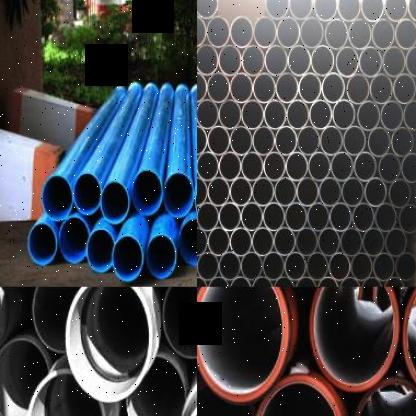pipe: (197, 287, 290, 403), (65, 287, 153, 402), (310, 287, 398, 392), (252, 374, 345, 416), (26, 368, 106, 416), (0, 337, 48, 416), (126, 356, 186, 416), (32, 286, 80, 354), (350, 377, 415, 416), (163, 287, 197, 358), (402, 286, 416, 400), (111, 236, 143, 282), (42, 175, 73, 221), (147, 233, 177, 280), (133, 170, 163, 216), (164, 172, 194, 218), (59, 216, 89, 262), (100, 181, 130, 224), (86, 228, 114, 272), (73, 173, 102, 215), (28, 223, 57, 265), (178, 219, 197, 265), (206, 14, 231, 48), (310, 44, 335, 78), (276, 16, 301, 50), (370, 17, 395, 51), (324, 17, 348, 51), (287, 43, 311, 77), (300, 16, 324, 50), (241, 43, 265, 77), (348, 17, 372, 51), (264, 43, 288, 77), (352, 151, 378, 182), (321, 72, 346, 104), (275, 71, 299, 104), (252, 71, 276, 104), (206, 71, 230, 104), (253, 15, 277, 48), (219, 42, 242, 76), (356, 100, 381, 131), (342, 125, 367, 156), (335, 46, 360, 77), (331, 99, 356, 130), (390, 126, 414, 158), (358, 46, 382, 78), (382, 46, 406, 78), (230, 71, 253, 104), (197, 42, 219, 76), (346, 73, 370, 104), (370, 73, 394, 104), (380, 100, 404, 131), (378, 152, 402, 183), (330, 151, 354, 182), (374, 202, 398, 233), (392, 73, 416, 104), (320, 125, 344, 156), (309, 99, 333, 130), (298, 72, 322, 103), (318, 176, 342, 207), (296, 125, 320, 156), (240, 99, 264, 130), (207, 125, 231, 156), (264, 99, 288, 130), (230, 17, 254, 48), (286, 99, 310, 130), (367, 127, 391, 157), (364, 177, 388, 207), (340, 177, 364, 207), (340, 227, 364, 257), (284, 151, 308, 181), (362, 227, 386, 257), (388, 178, 412, 208), (352, 202, 376, 232), (262, 151, 286, 181), (284, 201, 308, 231), (328, 202, 352, 232), (274, 125, 297, 156), (252, 125, 275, 156), (230, 125, 253, 156), (219, 99, 242, 130), (394, 18, 416, 50), (308, 152, 332, 181), (350, 252, 374, 281), (219, 201, 242, 231), (262, 201, 285, 231), (240, 201, 263, 231), (219, 251, 242, 281), (241, 151, 264, 181), (219, 151, 242, 181), (284, 251, 307, 281), (306, 251, 329, 281), (262, 251, 285, 281), (307, 202, 330, 232), (197, 150, 219, 181), (197, 200, 219, 231), (208, 176, 230, 207), (197, 98, 219, 129), (296, 177, 319, 206), (251, 177, 274, 206), (384, 228, 407, 257), (372, 252, 395, 281), (273, 227, 296, 256), (328, 252, 351, 281), (240, 251, 263, 280), (295, 227, 318, 256), (251, 227, 274, 256), (318, 227, 340, 257), (274, 177, 296, 206), (230, 177, 252, 206), (197, 251, 219, 280), (230, 227, 252, 256), (208, 227, 230, 256), (395, 252, 416, 281), (397, 204, 416, 233), (359, 0, 384, 22), (336, 0, 361, 22), (384, 0, 408, 22), (312, 0, 337, 21), (264, 0, 289, 20), (288, 0, 313, 20), (400, 152, 416, 181), (197, 0, 219, 19), (403, 100, 416, 130), (405, 45, 416, 77), (197, 176, 208, 206), (197, 70, 207, 103), (197, 124, 207, 155), (197, 14, 206, 48), (197, 227, 207, 256), (250, 275, 274, 287), (295, 275, 318, 287), (338, 276, 362, 287), (229, 276, 252, 287), (360, 276, 383, 287), (207, 276, 230, 287), (382, 276, 405, 287), (316, 276, 338, 287), (272, 276, 294, 287), (407, 0, 416, 23)
